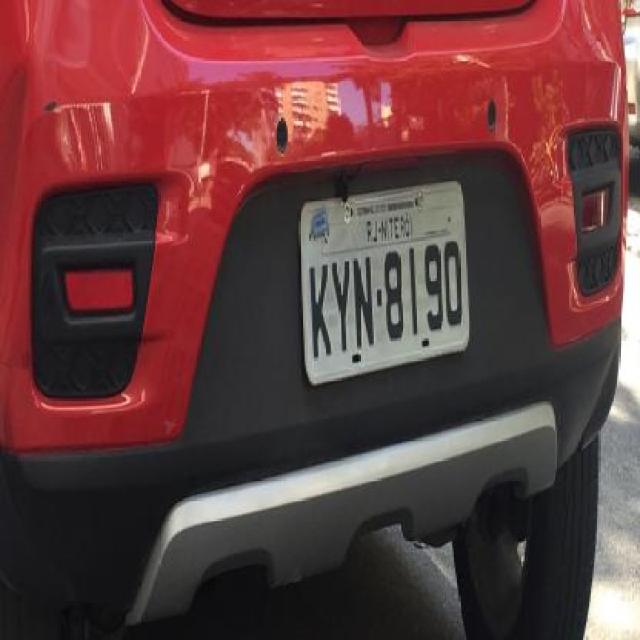old_plate: (294, 175, 474, 395)
